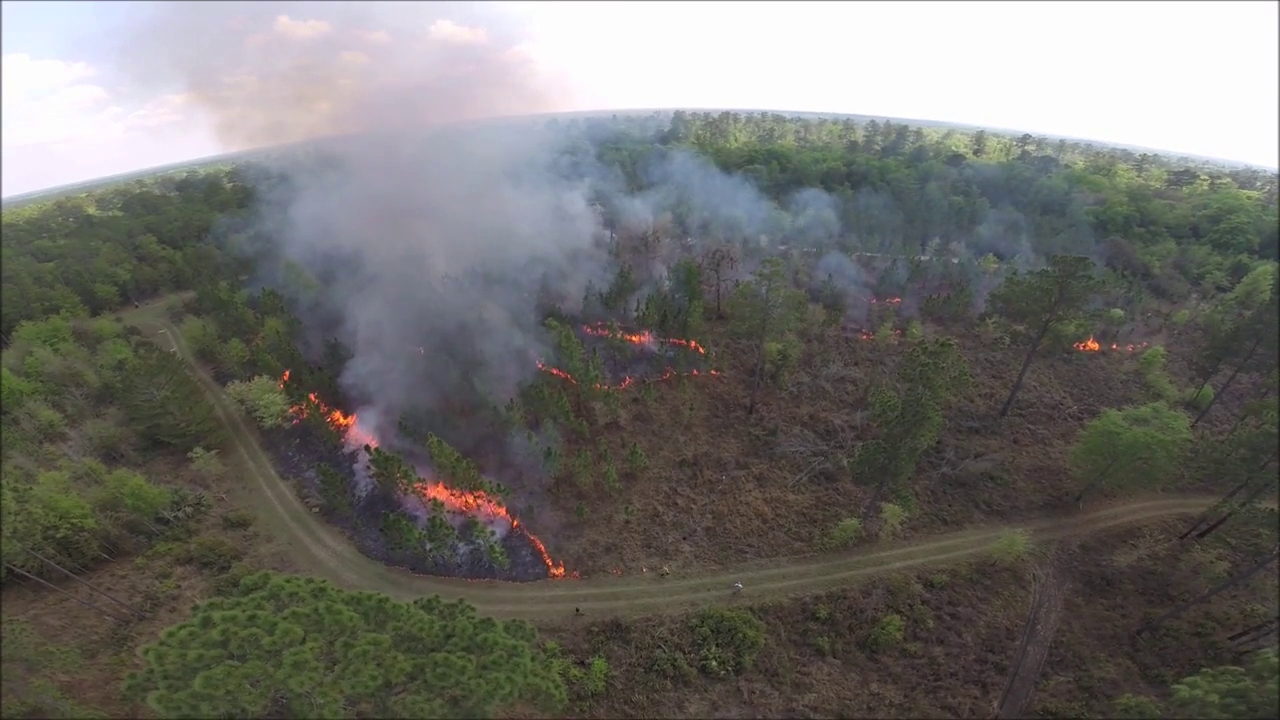forest_fire: (413, 479, 576, 577), (289, 392, 376, 446), (583, 321, 705, 354), (592, 366, 719, 390), (1072, 335, 1149, 352), (536, 360, 576, 382), (279, 371, 288, 387)
